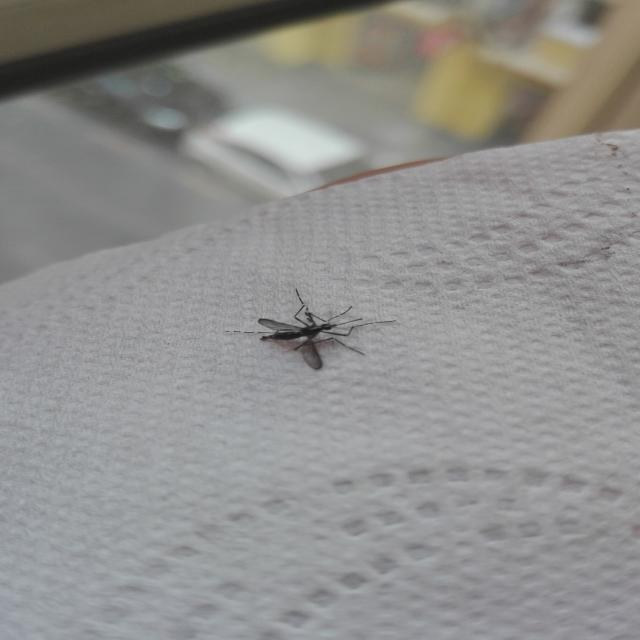albopictus: (216, 280, 401, 371)
